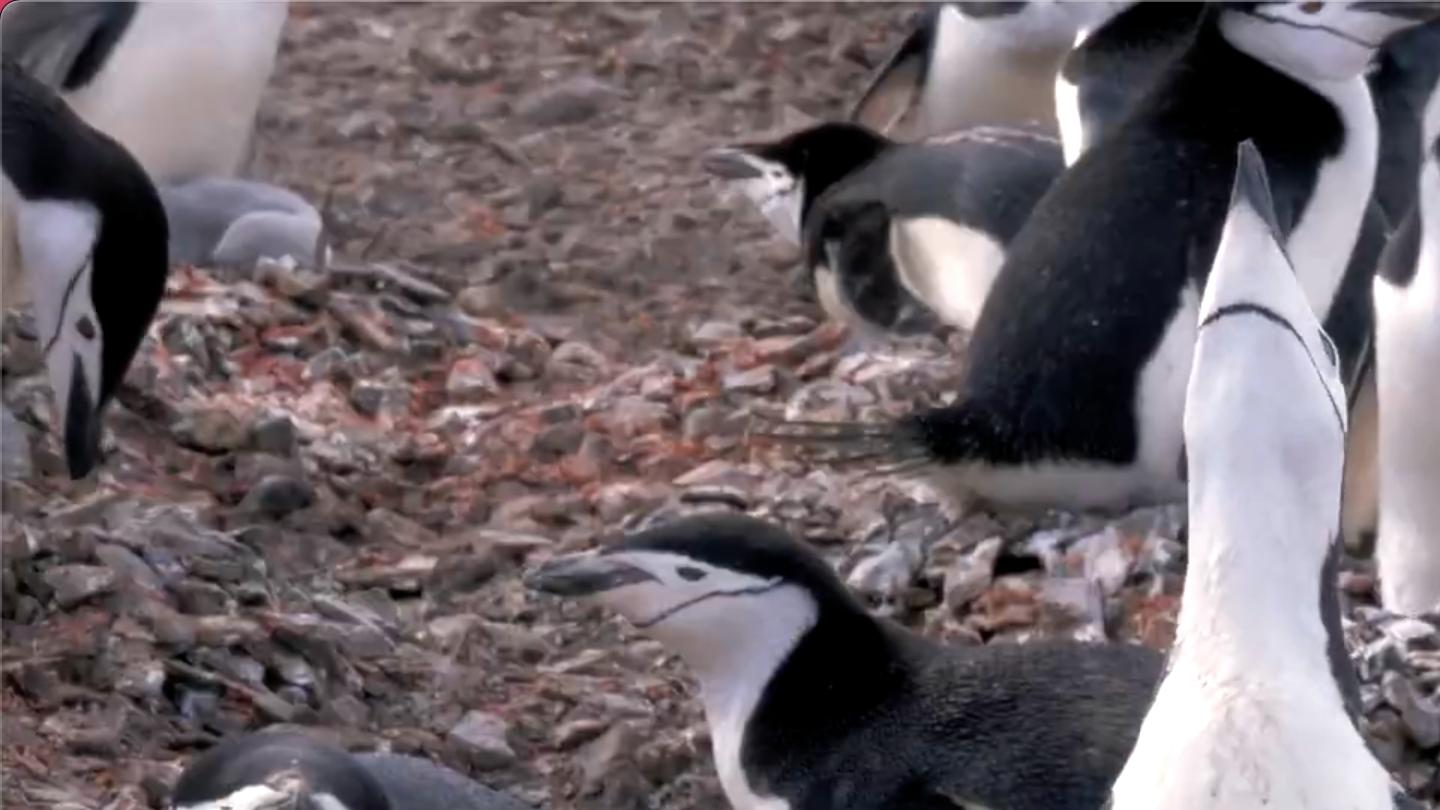Chinstrap Penguin: (596, 90, 1440, 810), (893, 0, 1437, 530), (551, 495, 1034, 810), (720, 73, 1127, 387), (0, 43, 200, 500), (1210, 533, 1440, 810), (76, 696, 626, 810), (96, 695, 604, 810), (1356, 94, 1440, 521)
